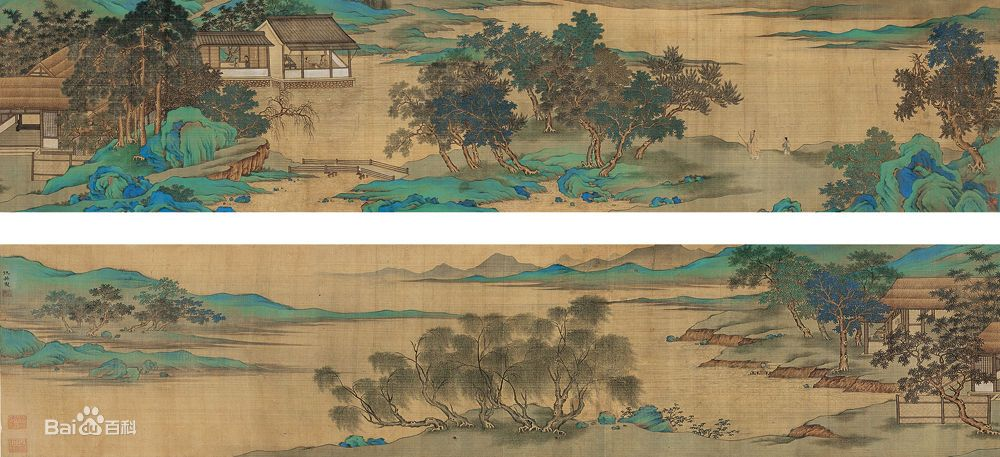bridge: (303, 158, 408, 181)
house: (199, 30, 359, 85), (1, 78, 65, 179), (894, 281, 940, 305), (890, 313, 929, 335), (267, 18, 339, 29), (40, 52, 64, 78)
kid: (782, 134, 793, 157)
man: (742, 126, 760, 161)
mountain: (358, 245, 724, 285), (7, 335, 257, 380), (767, 5, 1000, 36), (208, 298, 439, 318), (7, 260, 142, 288), (900, 240, 998, 271), (3, 290, 41, 323)
tree: (907, 33, 999, 169), (429, 66, 529, 173), (74, 73, 249, 113), (535, 33, 607, 126), (53, 290, 212, 325), (617, 68, 737, 111), (784, 277, 852, 339), (6, 10, 117, 41), (949, 262, 994, 330), (732, 246, 801, 284), (909, 360, 993, 390), (853, 253, 894, 302), (77, 118, 144, 146), (585, 129, 619, 175), (879, 337, 939, 363), (130, 5, 186, 31), (204, 3, 259, 29), (4, 46, 33, 73), (234, 117, 274, 133), (969, 422, 1000, 435), (840, 336, 851, 370), (150, 280, 184, 290), (955, 402, 967, 417)
willow: (332, 375, 575, 428), (428, 325, 622, 353), (380, 356, 621, 373), (488, 299, 610, 328), (615, 378, 639, 405)
